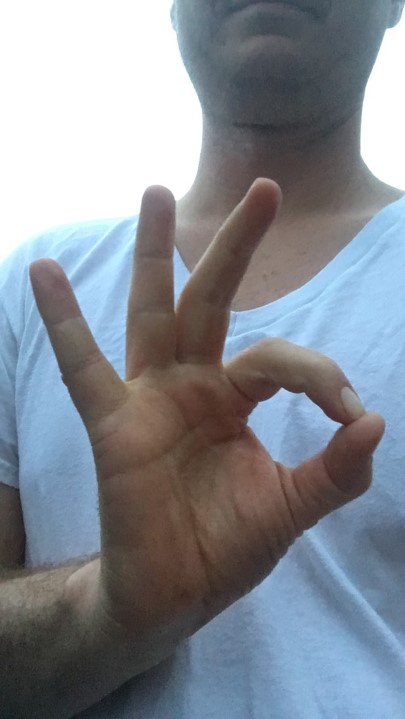hand: (30, 178, 386, 624)
